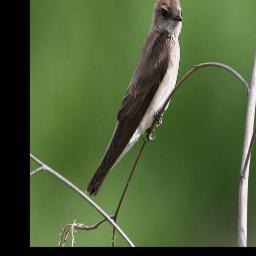Swallow: (83, 0, 184, 199)
